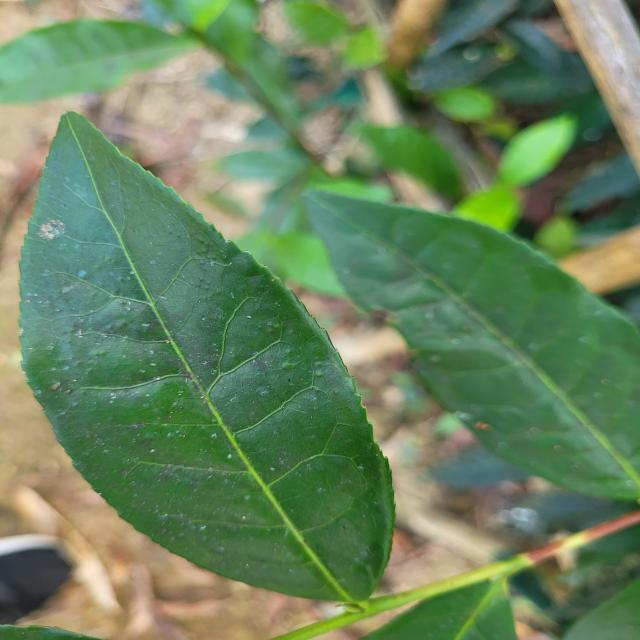Category D(7+ days, Not for Tea): (9, 81, 424, 620)
